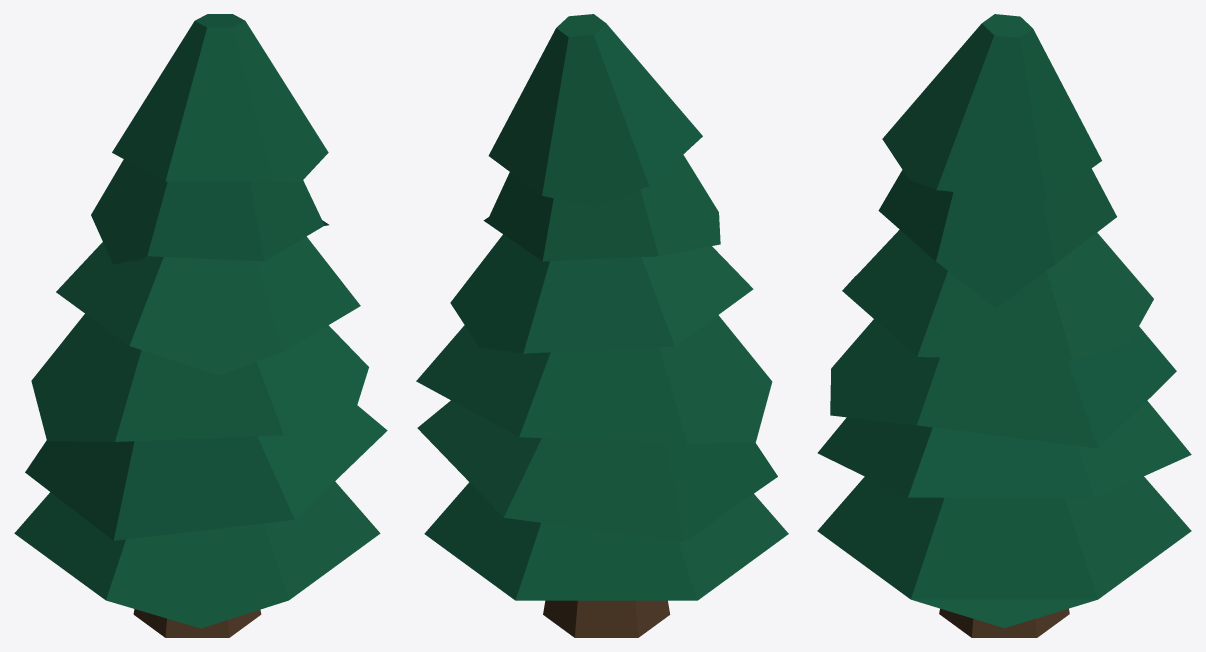
File: drzewoDos.fbx
3 views of the same model, side by side, from view 1: azimuth 30°, elevation 25°; view 2: azimuth 150°, elevation 25°; view 3: azimuth 270°, elevation 25° (orthographic). The views are drawn at different scales.
Visible parts, largest first — view 1: Walec; view 2: Walec; view 3: Walec.
Boxes of the visible parts, x1,y1,x2,y2 form: Walec: [14, 14, 387, 637]; Walec: [416, 14, 788, 637]; Walec: [817, 14, 1191, 637].
Bounding box in the file's own units: 839 × 1536 × 865.
